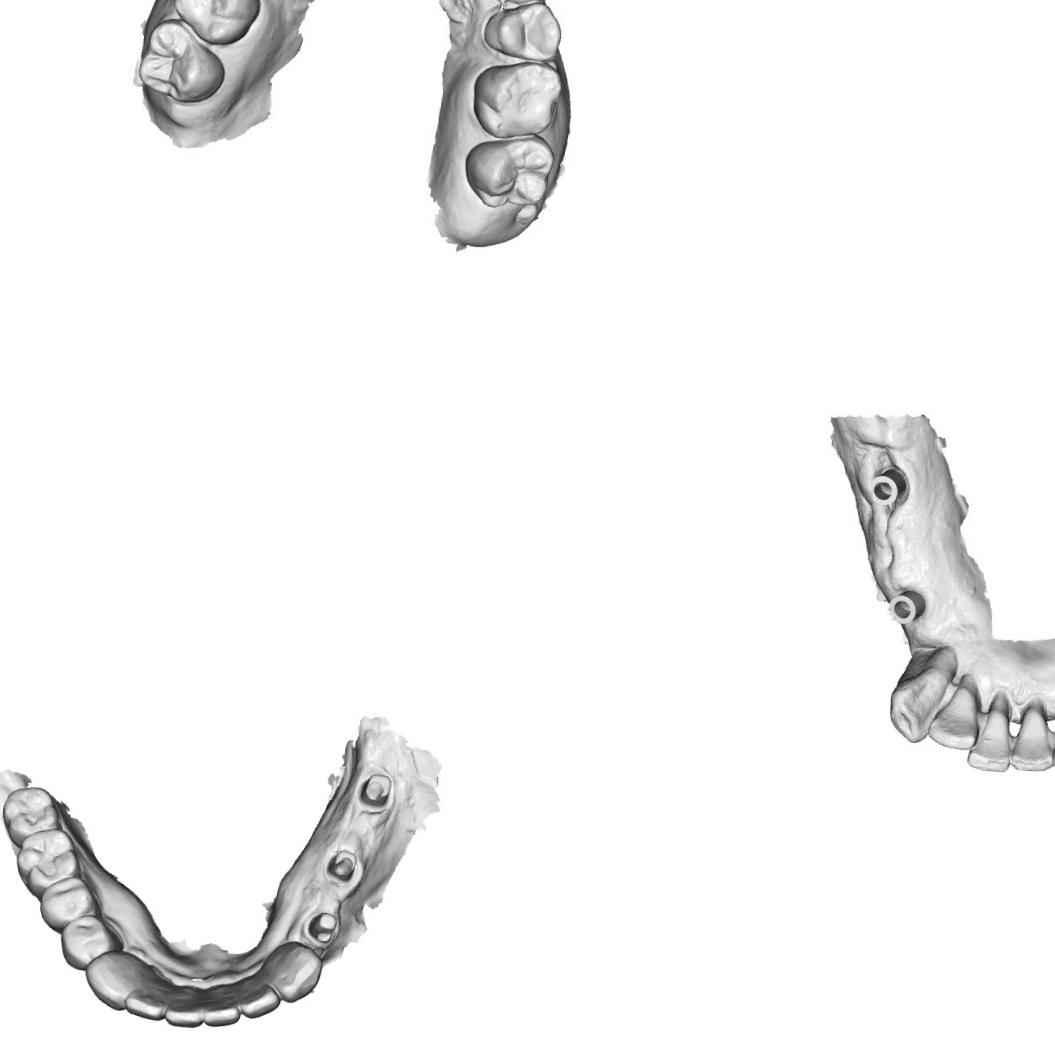abutment: (355, 763, 398, 814), (320, 844, 364, 888), (299, 908, 342, 949)
canine: (890, 644, 951, 741), (260, 938, 324, 1005), (80, 948, 142, 1013)
implant: (886, 576, 930, 628), (866, 463, 910, 513)
incisor: (964, 690, 1021, 775), (926, 672, 982, 754), (1010, 700, 1055, 777), (231, 979, 282, 1021), (123, 986, 167, 1021), (200, 992, 242, 1028), (162, 994, 204, 1029)
molar: (134, 17, 232, 109), (466, 55, 566, 142), (459, 128, 555, 215), (161, 0, 265, 51), (13, 826, 83, 900), (0, 783, 61, 849)
premolar: (478, 0, 563, 65), (36, 872, 102, 936), (57, 912, 118, 972)
